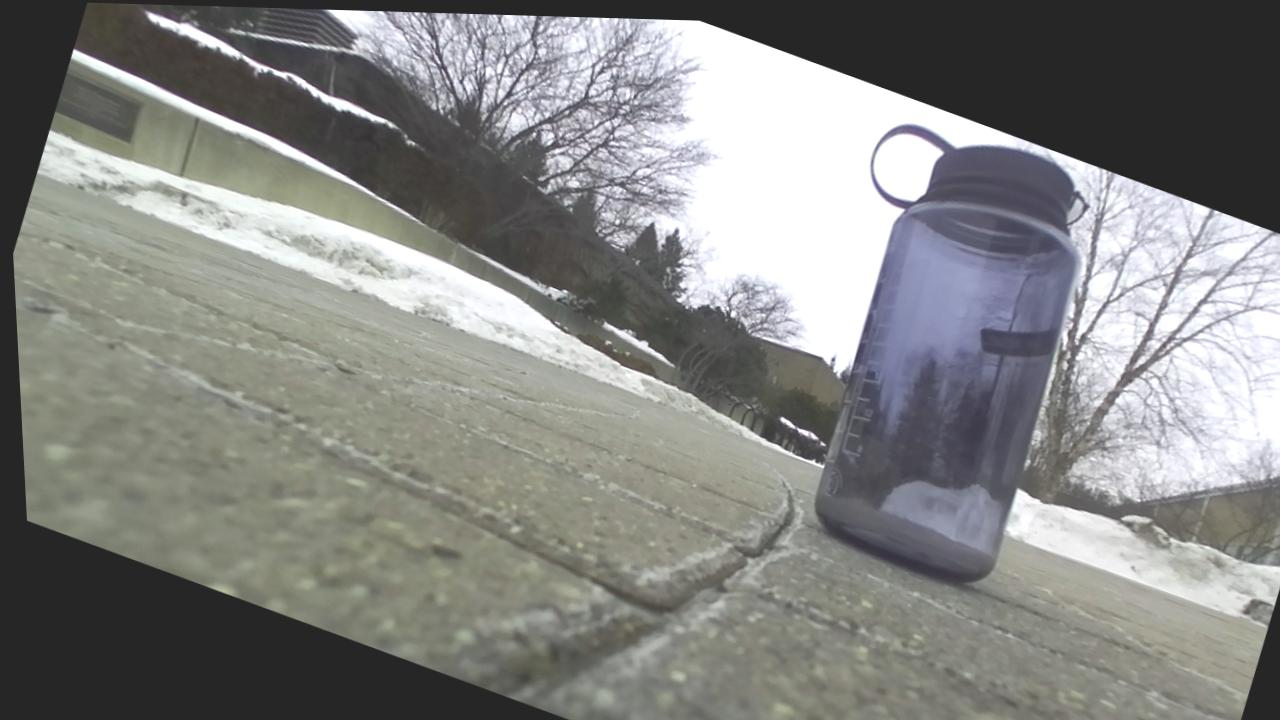bottle: (815, 124, 1085, 581)
